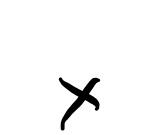mult: (57, 75, 101, 130)
